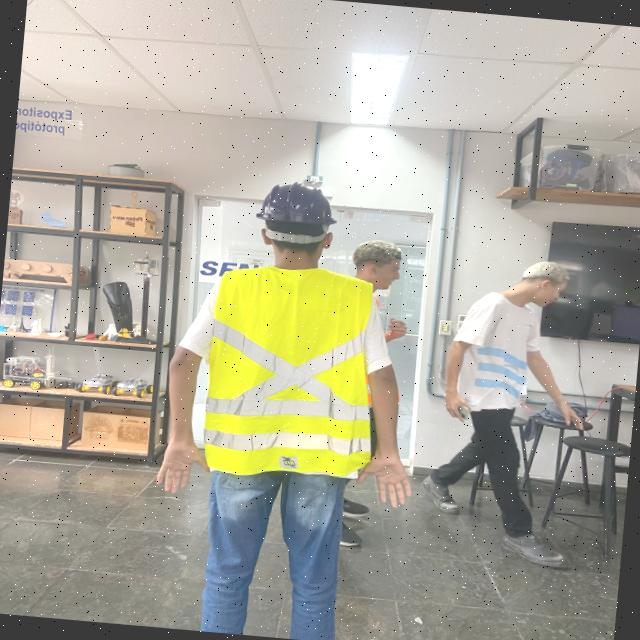BOTA: (500, 530, 568, 571), (416, 474, 461, 518)
CAPACETE: (256, 182, 330, 244)
COLETE: (204, 264, 379, 482)
SEM BOTA: (337, 493, 372, 518), (339, 520, 367, 548)
SEM LUVA: (149, 439, 213, 499), (351, 454, 415, 509), (441, 386, 475, 422), (551, 398, 584, 430), (388, 317, 404, 340)
